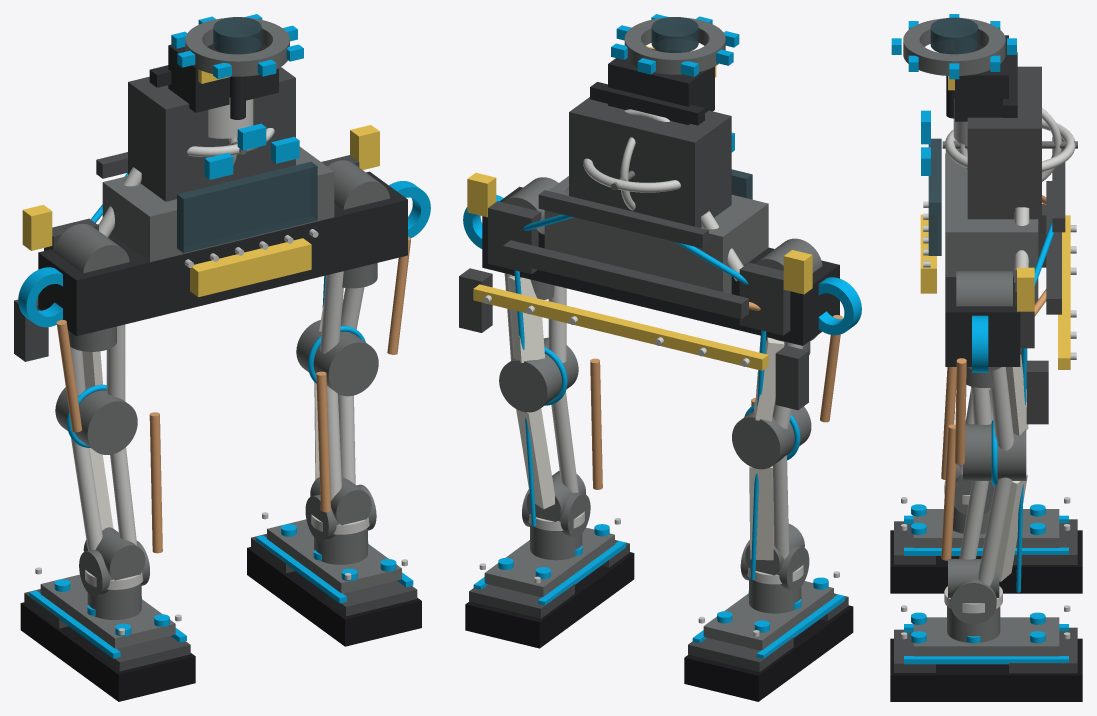
Rendered from humanoid_balance_system_concept_assembly.glb.
3 views of the same model, side by side, from view 1: azimuth 30°, elevation 25°; view 2: azimuth 150°, elevation 25°; view 3: azimuth 270°, elevation 25° (orthographic). The views are drawn at different scales.
Parts seen in each view (by area): view 1: =>[0:1:1:139], =>[0:1:1:145], =>[0:1:1:143], =>[0:1:1:141], =>[0:1:1:5], =>[0:1:1:41], =>[0:1:1:151], =>[0:1:1:120], =>[0:1:1:90], =>[0:1:1:11], =>[0:1:1:47], =>[0:1:1:211] (+40 smaller); view 2: =>[0:1:1:145], =>[0:1:1:141], =>[0:1:1:139], =>[0:1:1:234], =>[0:1:1:5], =>[0:1:1:41], =>[0:1:1:238], =>[0:1:1:11], =>[0:1:1:47], =>[0:1:1:236], =>[0:1:1:149], =>[0:1:1:120] (+33 smaller); view 3: =>[0:1:1:145], =>[0:1:1:41], =>[0:1:1:141], =>[0:1:1:5], =>[0:1:1:139], =>[0:1:1:47], =>[0:1:1:211], =>[0:1:1:120], =>[0:1:1:149], =>[0:1:1:11], =>[0:1:1:130], =>[0:1:1:110] (+40 smaller).
Part boxes in pixels (x1,y1,x2,y2): =>[0:1:1:139]: (38, 171, 407, 336); =>[0:1:1:145]: (128, 67, 295, 201); =>[0:1:1:143]: (177, 161, 317, 253); =>[0:1:1:141]: (102, 146, 334, 262); =>[0:1:1:5]: (20, 602, 195, 701); =>[0:1:1:41]: (247, 547, 421, 646); =>[0:1:1:151]: (190, 238, 311, 297); =>[0:1:1:120]: (296, 320, 378, 396); =>[0:1:1:90]: (55, 387, 137, 454); =>[0:1:1:11]: (40, 574, 175, 648); =>[0:1:1:47]: (267, 519, 401, 593); =>[0:1:1:211]: (185, 17, 289, 76); =>[0:1:1:145]: (569, 97, 731, 227); =>[0:1:1:141]: (544, 176, 768, 293); =>[0:1:1:139]: (482, 186, 839, 345); =>[0:1:1:234]: (503, 240, 748, 319); =>[0:1:1:5]: (684, 605, 853, 701); =>[0:1:1:41]: (465, 552, 634, 648); =>[0:1:1:238]: (473, 284, 768, 370); =>[0:1:1:11]: (703, 581, 833, 650); =>[0:1:1:47]: (484, 527, 614, 597); =>[0:1:1:236]: (538, 190, 708, 248); =>[0:1:1:149]: (608, 48, 714, 125); =>[0:1:1:120]: (499, 337, 578, 412); =>[0:1:1:145]: (967, 66, 1041, 229); =>[0:1:1:41]: (890, 638, 1082, 701); =>[0:1:1:141]: (945, 148, 1038, 303); =>[0:1:1:5]: (890, 530, 1082, 593); =>[0:1:1:139]: (945, 154, 1020, 366); =>[0:1:1:47]: (913, 617, 1059, 656); =>[0:1:1:211]: (903, 18, 1005, 75); =>[0:1:1:120]: (963, 424, 1026, 480); =>[0:1:1:149]: (955, 35, 1008, 121); =>[0:1:1:11]: (913, 509, 1059, 547); =>[0:1:1:130]: (956, 271, 1012, 306); =>[0:1:1:110]: (978, 477, 1012, 585).
Bounding box in the file's own units: 0.9999 × 1.45 × 0.42.
